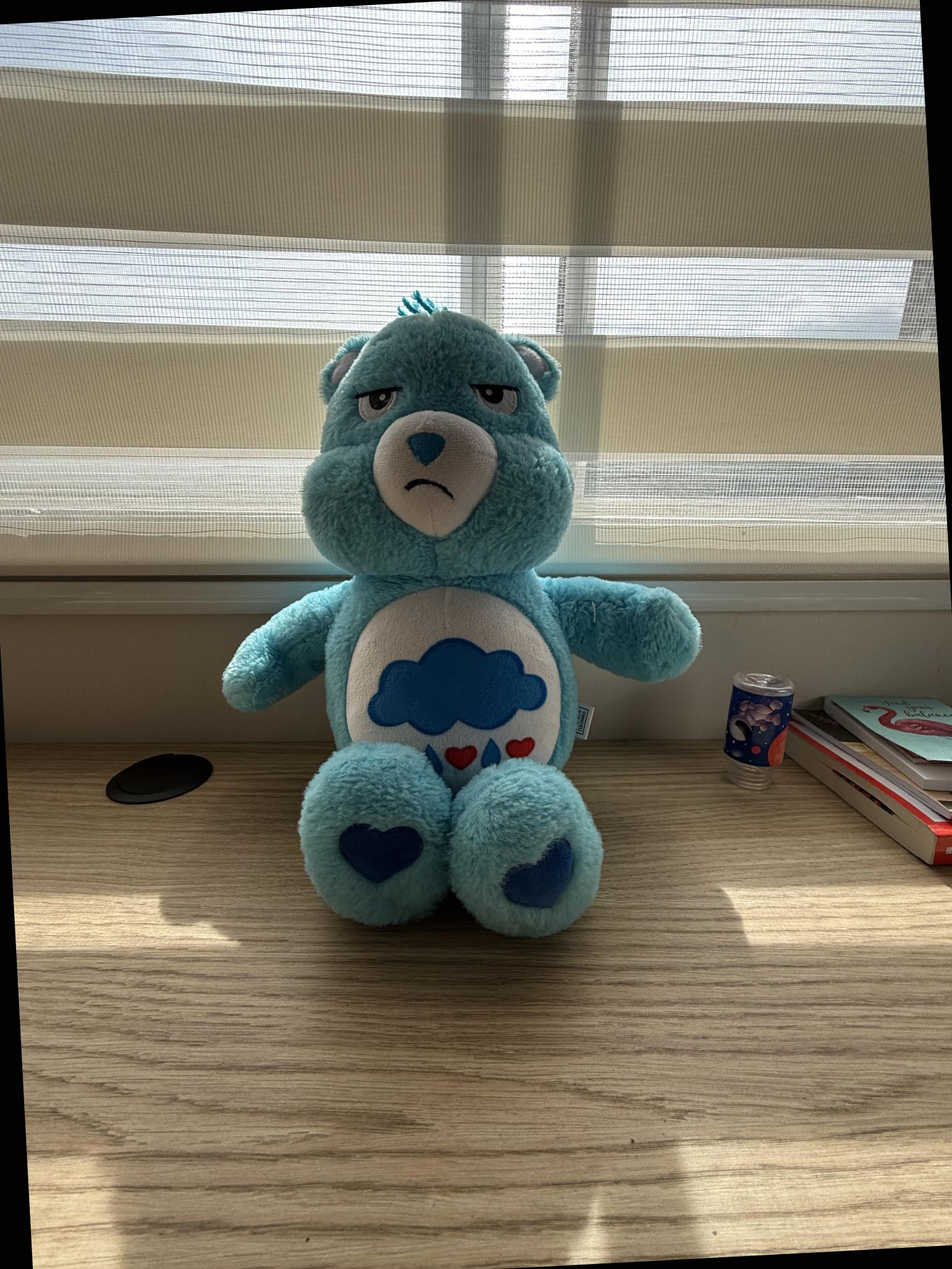peluche_Juan Jose: (200, 275, 717, 955)
